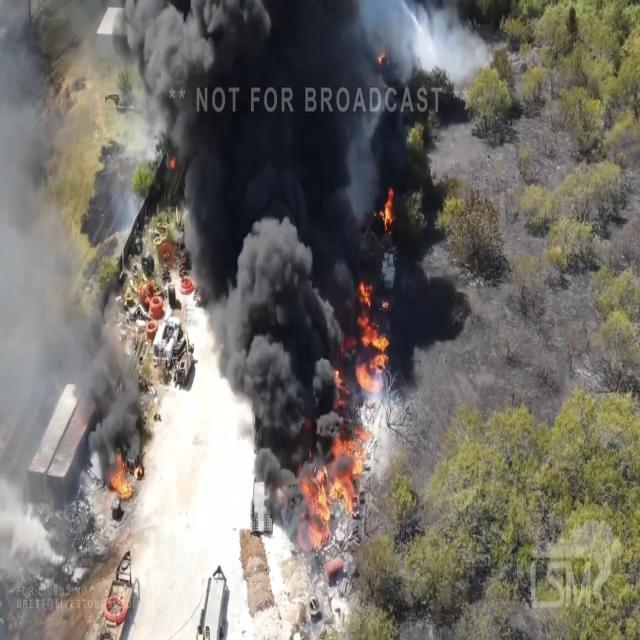Smoke: (168, 0, 344, 424)
